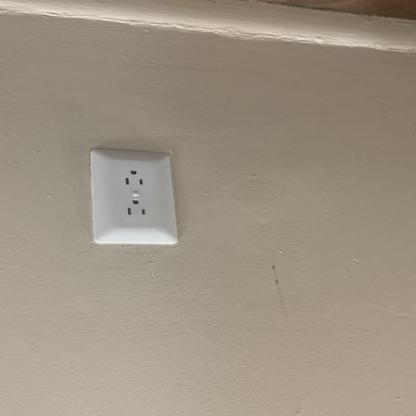OUTLET: (91, 148, 174, 245)
